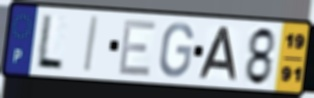8: (244, 23, 278, 88)
A: (196, 25, 239, 83)
E: (116, 18, 159, 79)
G: (157, 21, 196, 80)
I: (82, 14, 102, 75)
L: (33, 13, 65, 72)
